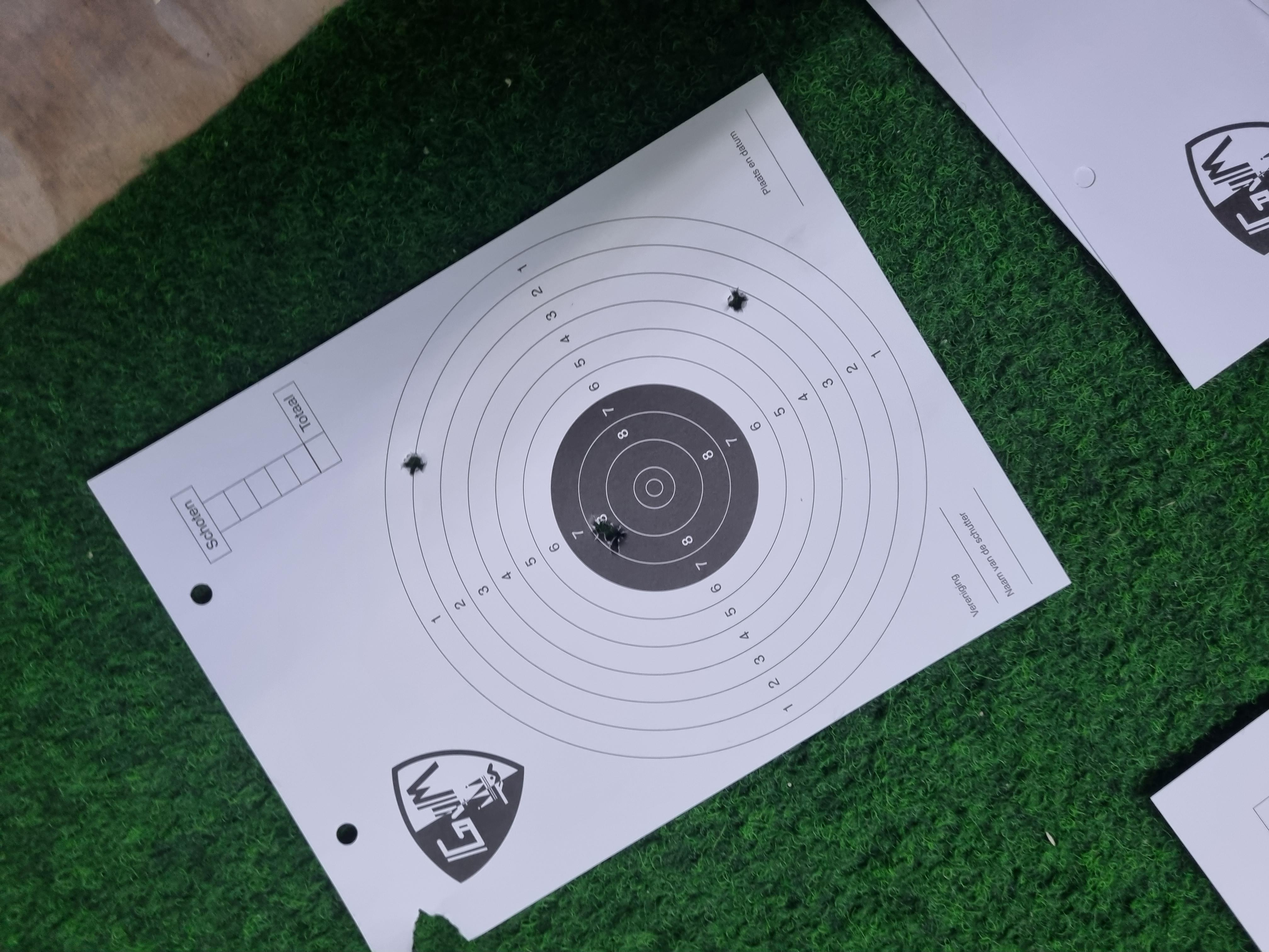hole: (635, 300, 666, 320), (851, 546, 886, 561), (547, 444, 578, 458), (541, 457, 569, 470)
